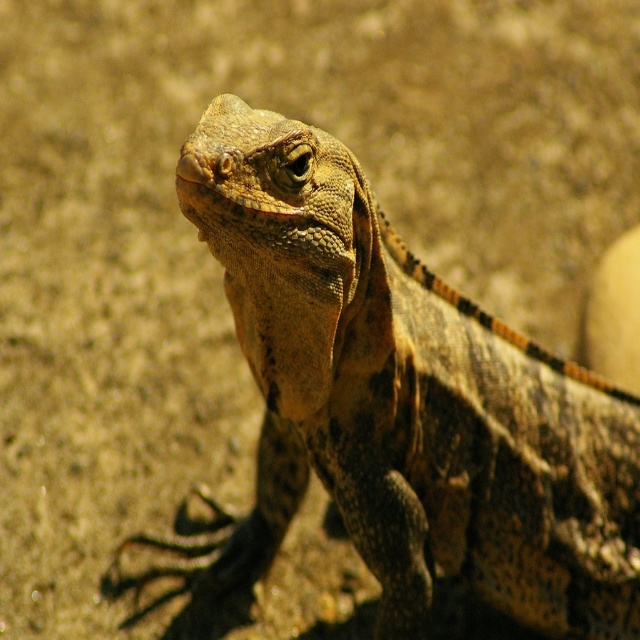Lizard: (182, 80, 610, 640)
